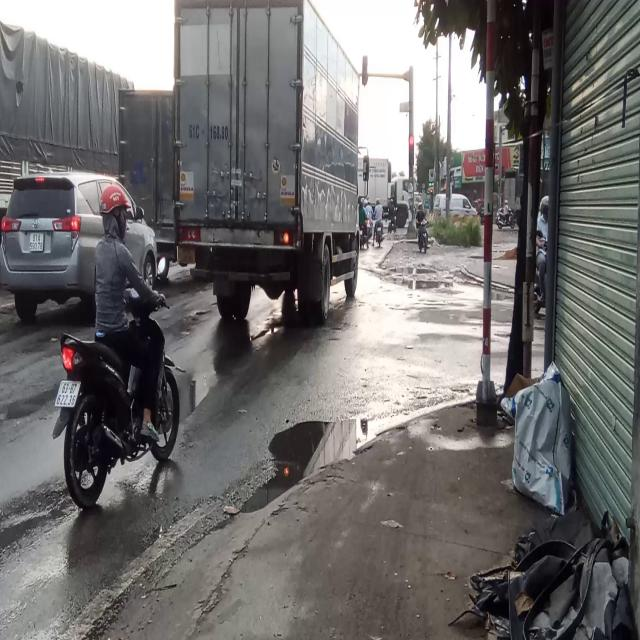bien_trang: (52, 376, 84, 409), (27, 230, 45, 255)
